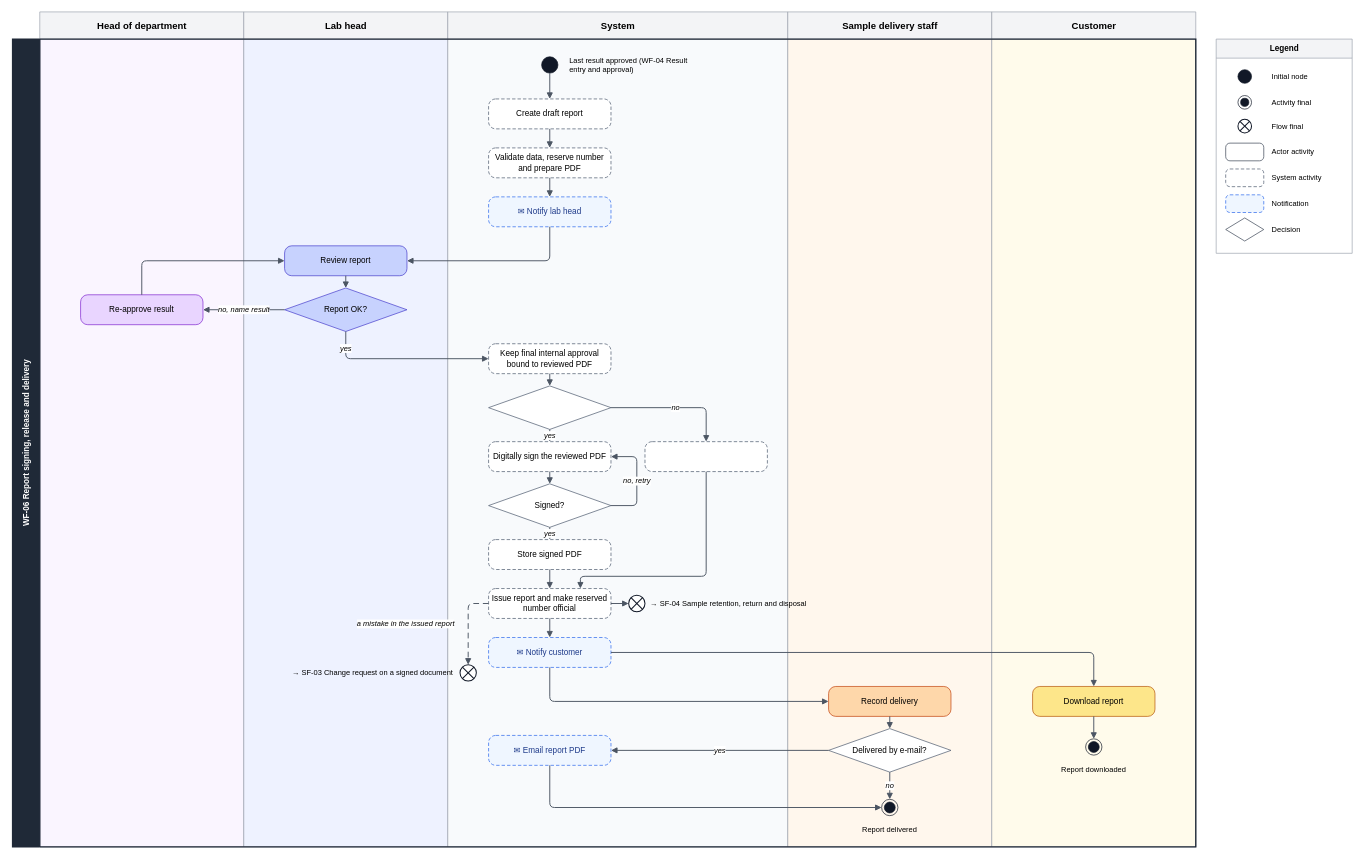
The diagram is 1364 pixels wide and 860 high, and some of its shapes have lost their labels. The shapes that lost their labels are listed below. From the top down, each one's centre as x and y in pixels, then its label:
At pixel 549 407: "Digital signing enabled?".
At pixel 705 456: "Store reviewed PDF without digital signature".
